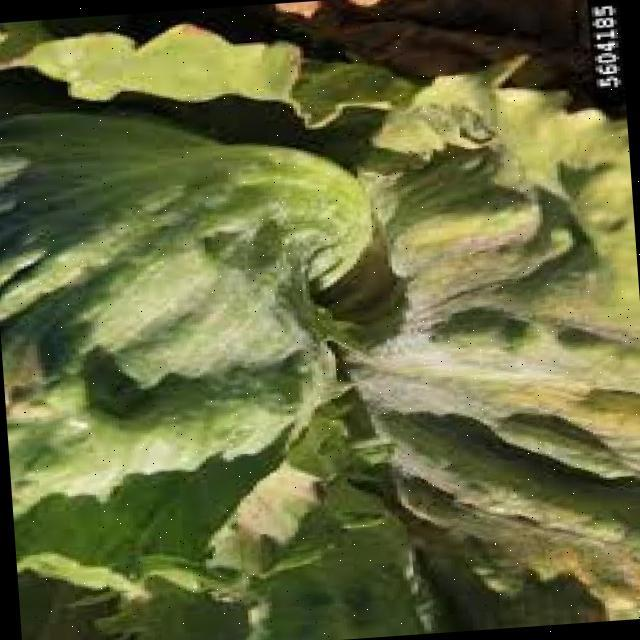Powdery_Mildew: (45, 220, 624, 475)
